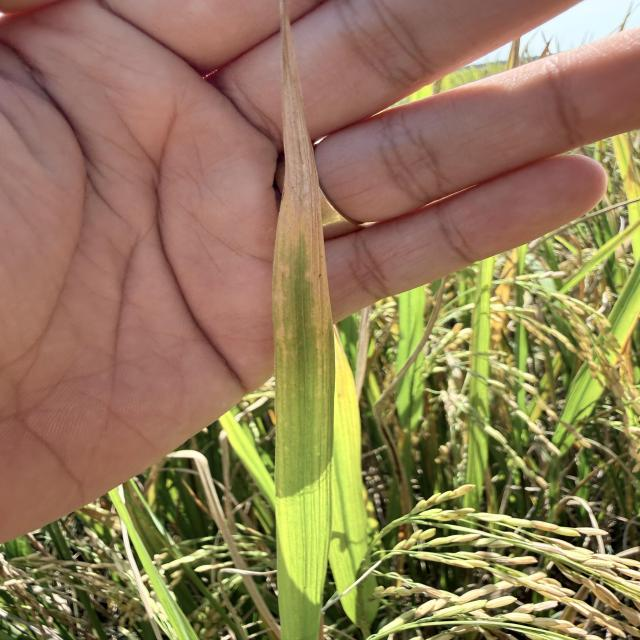Chay bia la: (272, 0, 332, 371)
